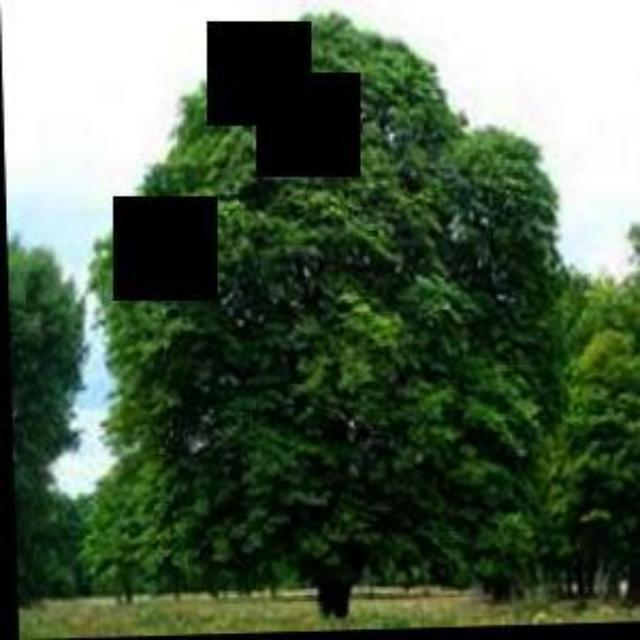tree: (69, 0, 576, 618)
